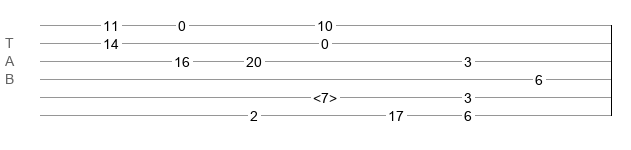0: (178, 18, 186, 28), (321, 36, 329, 46)
10: (317, 18, 333, 28)
11: (103, 18, 119, 28)
14: (103, 36, 119, 46)
16: (174, 54, 190, 64)
17: (388, 108, 404, 118)
2: (250, 108, 258, 118)
20: (246, 54, 262, 64)
3: (464, 54, 472, 64), (464, 90, 472, 100)
6: (464, 108, 472, 118), (535, 72, 543, 82)
harmonic: (313, 90, 337, 100)
